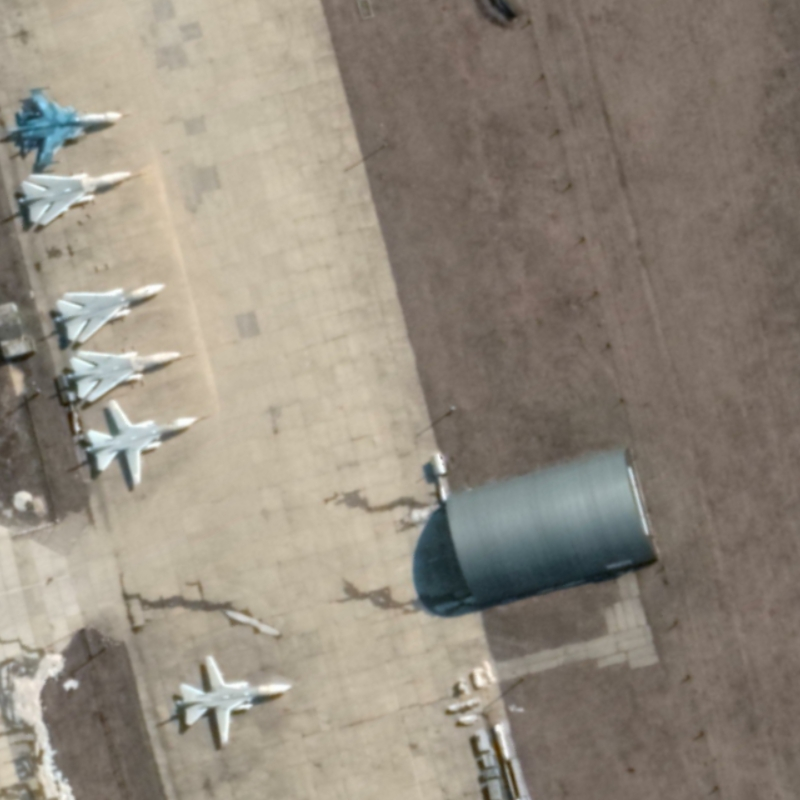A19: (6, 84, 124, 169)
A20: (175, 653, 294, 748), (83, 398, 201, 487), (54, 282, 167, 345), (17, 170, 133, 227), (66, 348, 183, 404)
